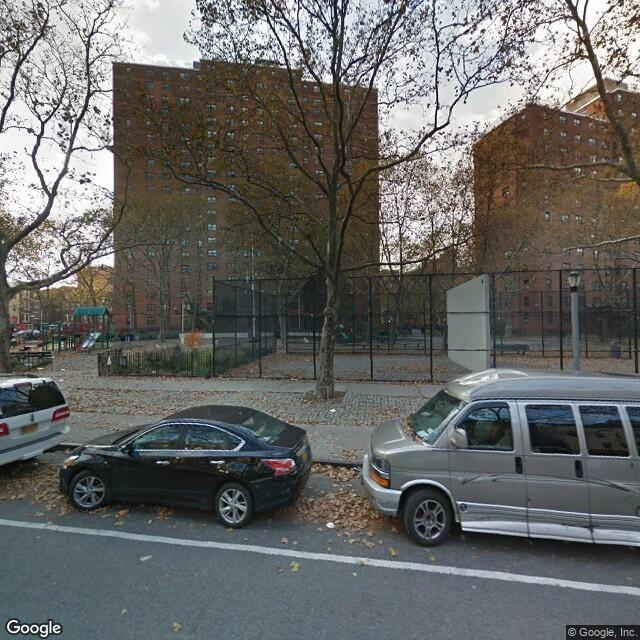litter: (326, 523, 350, 537)
